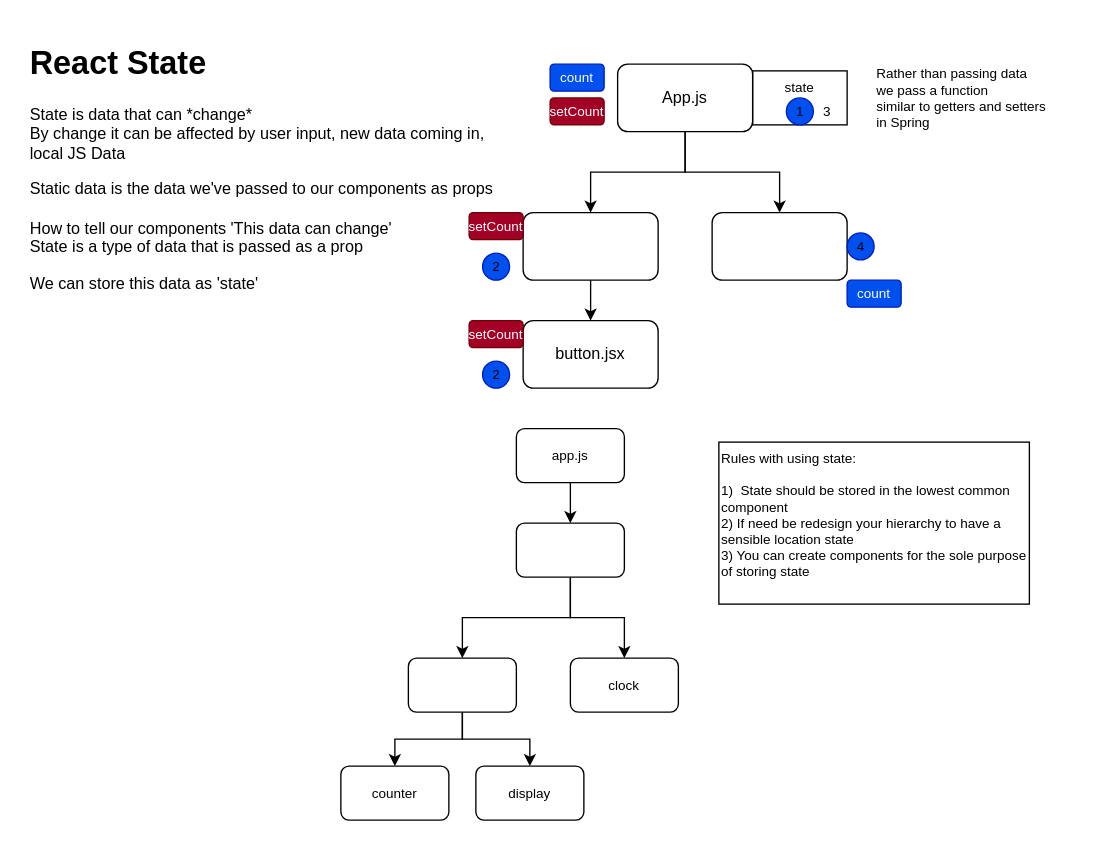
This 1099x844 diagram has some shape labels left out. Each missing label, with the centre of its shape:
"Counter.jsx" goes at (x=590, y=245).
"counting" goes at (x=461, y=684).
"display.jsx" goes at (x=779, y=245).
"manager.jsx" goes at (x=569, y=549).
